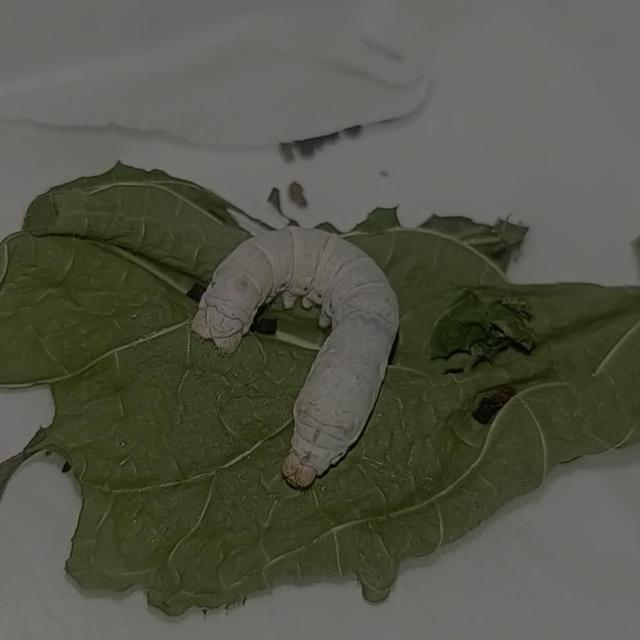Healthy: (178, 192, 437, 510)
